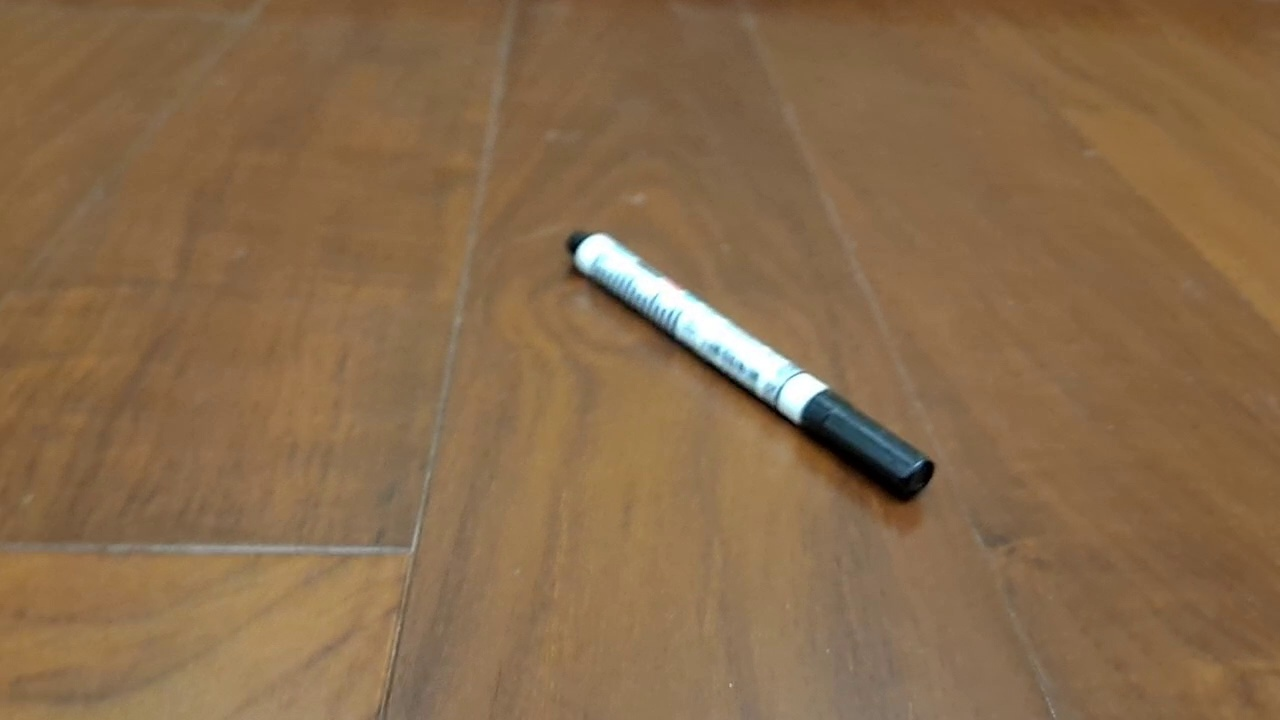pen: (564, 229, 937, 505)
